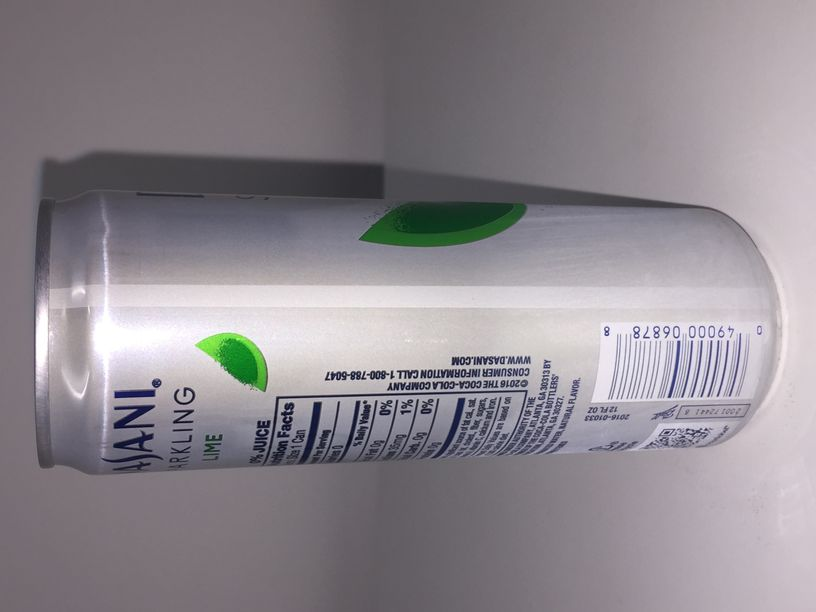lime: (31, 189, 781, 476)
